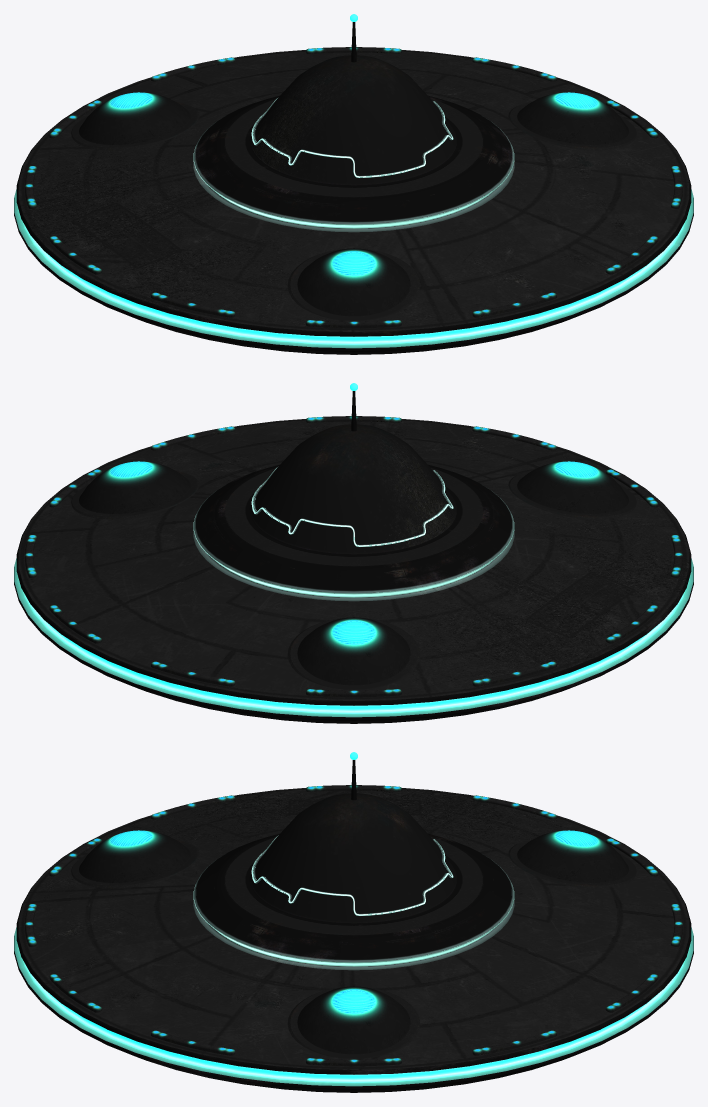
The model's file is Retro_UFO.dae.
3 views of the same model, one above another, from view 1: azimuth 30°, elevation 25°; view 2: azimuth 150°, elevation 25°; view 3: azimuth 270°, elevation 25° (orthographic).
Parts seen in each view (by area): view 1: ufo_1_1; view 2: ufo_1_1; view 3: ufo_1_1.
Boxes of the visible parts, bbox=[...] form: ufo_1_1: bbox=[14, 14, 693, 354]; ufo_1_1: bbox=[14, 383, 693, 723]; ufo_1_1: bbox=[14, 752, 693, 1092].
Size of the model in its own units: 97.33 by 40.11 by 97.17.
1 material, 1 textured.
